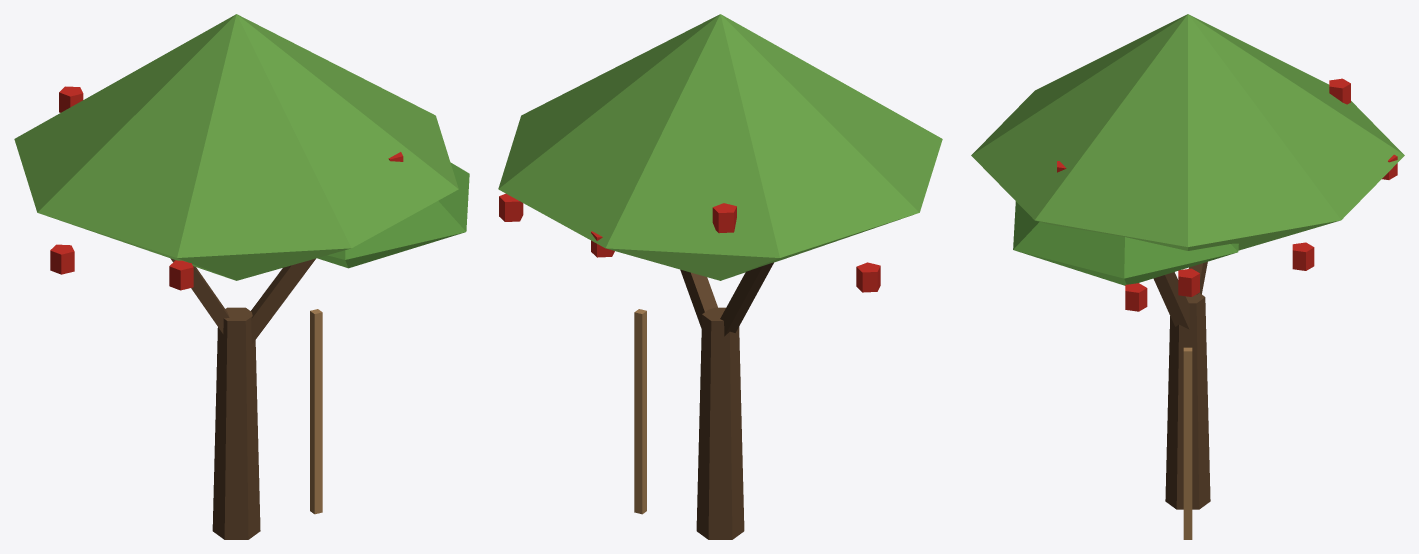
The model's file is nature.fruit-tree.glb.
3 views of the same model, side by side, from view 1: azimuth 30°, elevation 25°; view 2: azimuth 150°, elevation 25°; view 3: azimuth 270°, elevation 25° (orthographic). The views are drawn at different scales.
Parts seen in each view (by area): view 1: nature-fruit-tree; view 2: nature-fruit-tree; view 3: nature-fruit-tree.
Boxes of the visible parts, bbox=[...] form: nature-fruit-tree: bbox=[14, 14, 469, 539]; nature-fruit-tree: bbox=[498, 14, 942, 539]; nature-fruit-tree: bbox=[971, 14, 1404, 539].
Size of the model in its own units: 2.5 by 3.1 by 2.5.
